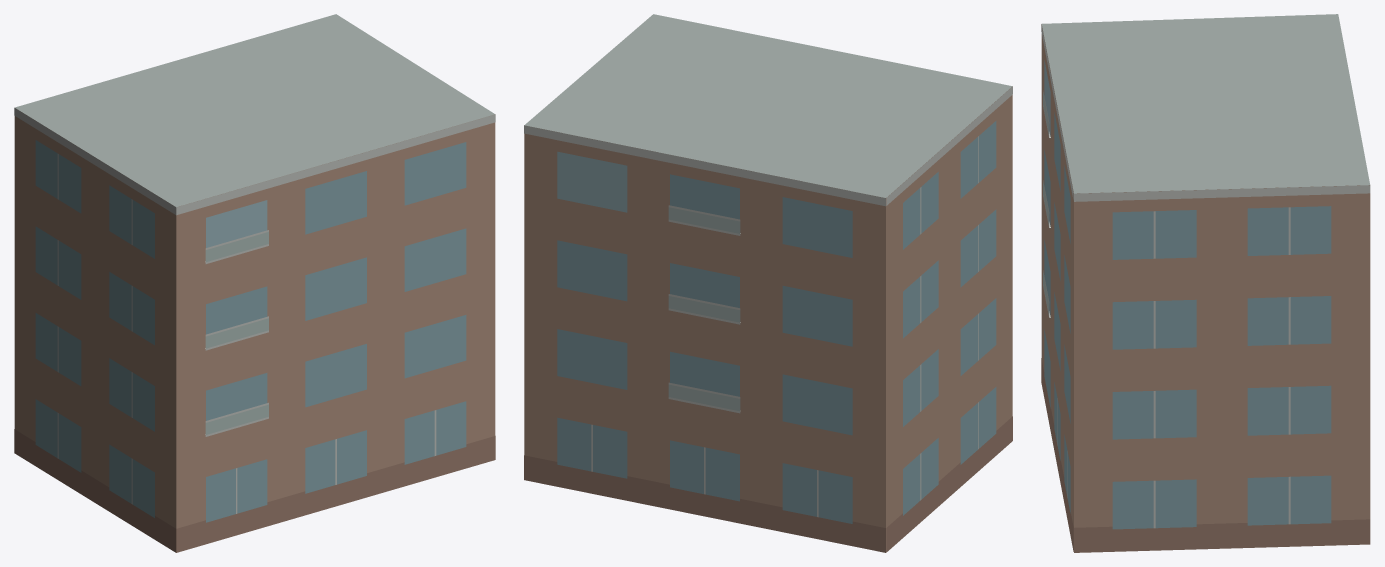
The model's file is survey-upis-32577420.glb.
The picture shows the model from 3 angles, left to right: view 1: azimuth 30°, elevation 25°; view 2: azimuth 150°, elevation 25°; view 3: azimuth 270°, elevation 25°; orthographic projection. The views are drawn at different scales.
Parts seen in each view (by area): view 1: survey-upis-32577420.tmp; view 2: survey-upis-32577420.tmp; view 3: survey-upis-32577420.tmp.
Part boxes in pixels (<box>): survey-upis-32577420.tmp: <box>14,14,495,552</box>; survey-upis-32577420.tmp: <box>524,14,1012,552</box>; survey-upis-32577420.tmp: <box>1041,14,1370,552</box>.
Bounding box in the file's own units: 11.26 × 10.5 × 8.71.
